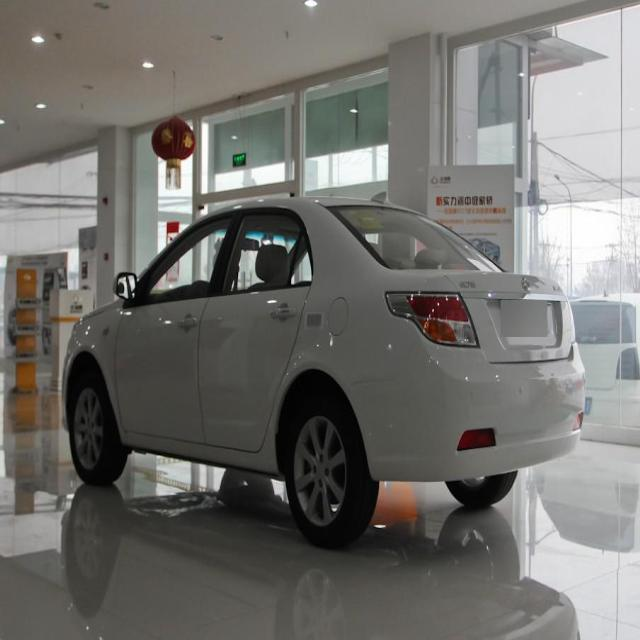back_glass: (329, 203, 504, 274)
back_left_side_light: (384, 290, 479, 348)
door: (203, 208, 314, 448)
front_left_side_door: (112, 206, 241, 448)
front_left_side_mirror: (110, 268, 140, 303)
rear_bumper: (345, 340, 585, 480)
wheel: (281, 392, 377, 544), (66, 364, 124, 484), (444, 472, 513, 508)
